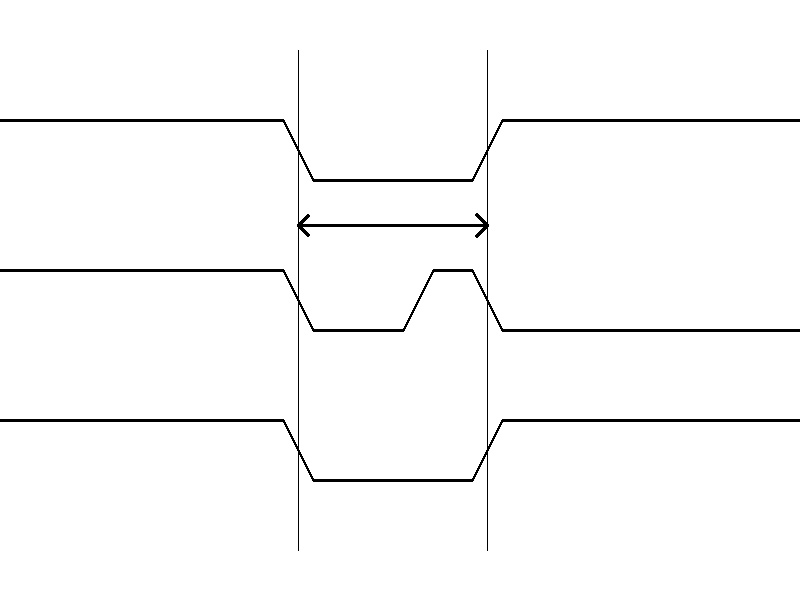double_arrow: (298, 210, 487, 240)
